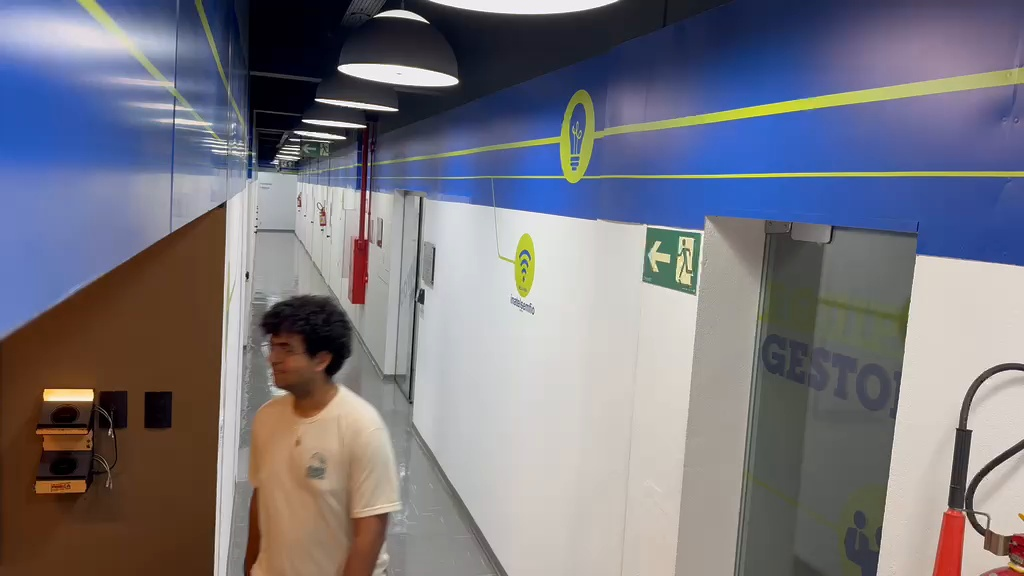person: (244, 293, 402, 574)
